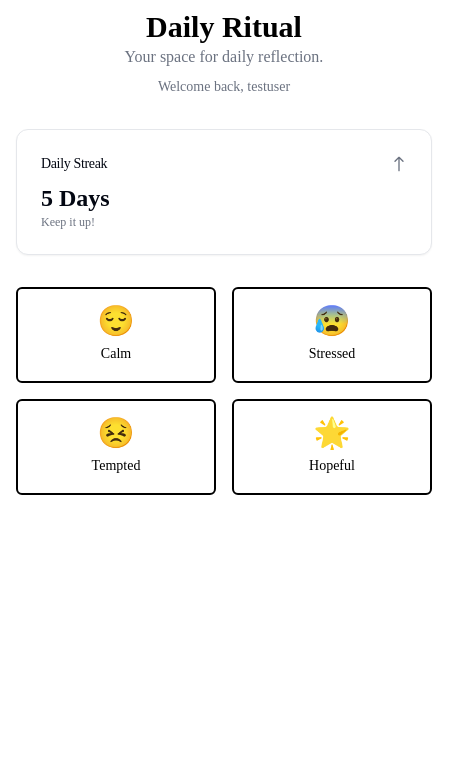
Scenario: DailyRitual Integration Tests › Test Scenario 2: User selects mood and sees affirmation › displays affirmation after mood selection
Expected: the text "5 Days" is shown, [41,185,110,211]
Click the button "😌 Calm": {"x": 116, "y": 335} [16,287,216,383]
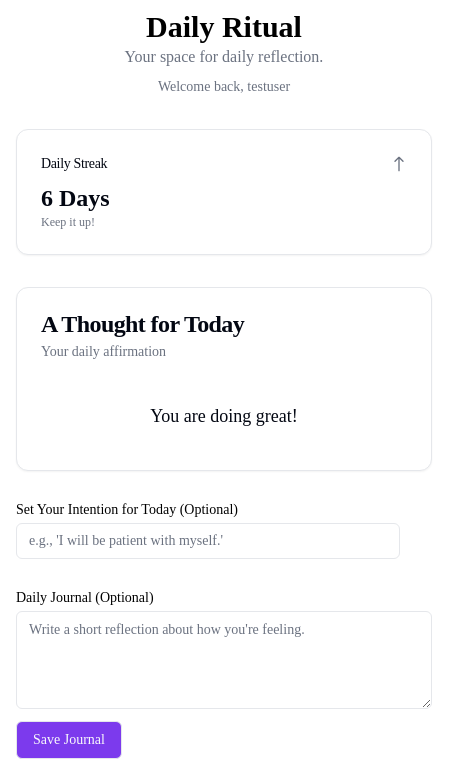
Expected: the text "You are doing great!" is shown, [150,406,298,426]
